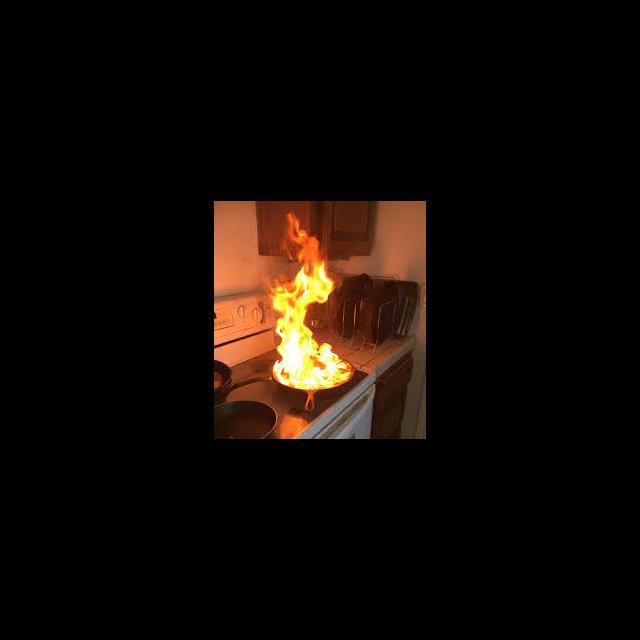Fire: (265, 212, 358, 392)
